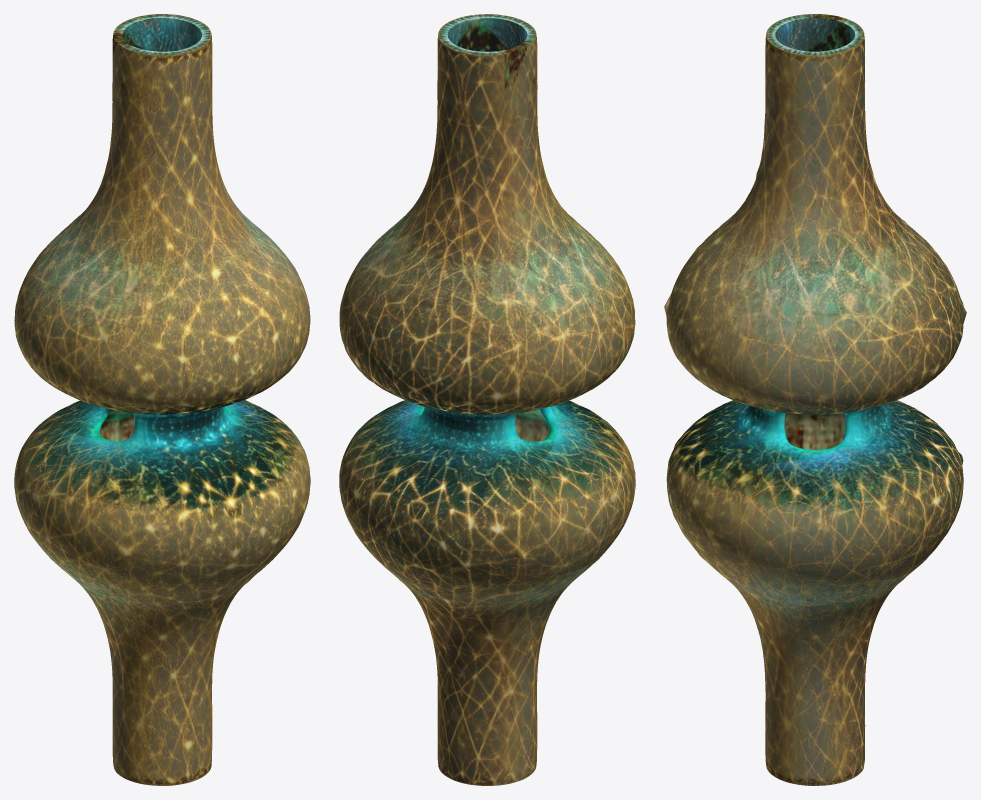
The model's file is node-approval.glb.
3 renders of one model, left to right at view 1: azimuth 30°, elevation 25°; view 2: azimuth 150°, elevation 25°; view 3: azimuth 270°, elevation 25°, orthographic.
Parts seen in each view (by area): view 1: Mesh_0; view 2: Mesh_0; view 3: Mesh_0.
Part boxes in pixels (left/top/right/bottom): Mesh_0: left=14, top=14, right=310, bottom=785; Mesh_0: left=339, top=14, right=635, bottom=785; Mesh_0: left=664, top=14, right=966, bottom=785.
Bounding box in the file's own units: 0.7049 × 1.91 × 0.7174.
Materials: 1 (1 with a texture image).
